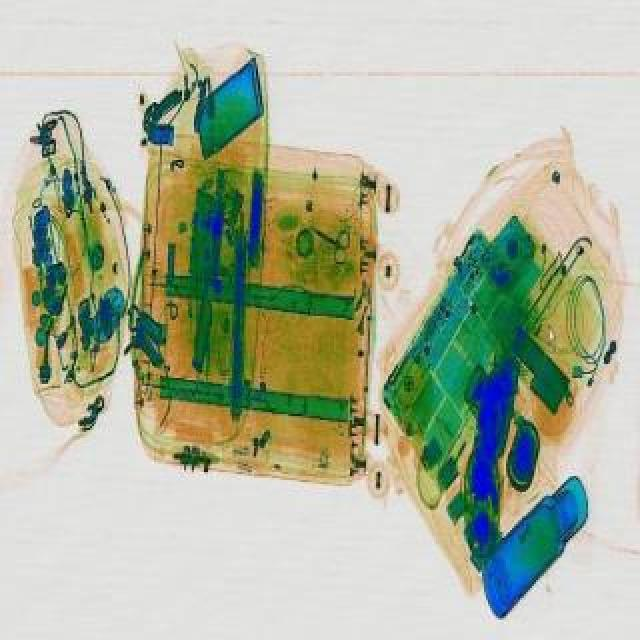pliers: (298, 212, 362, 266)
